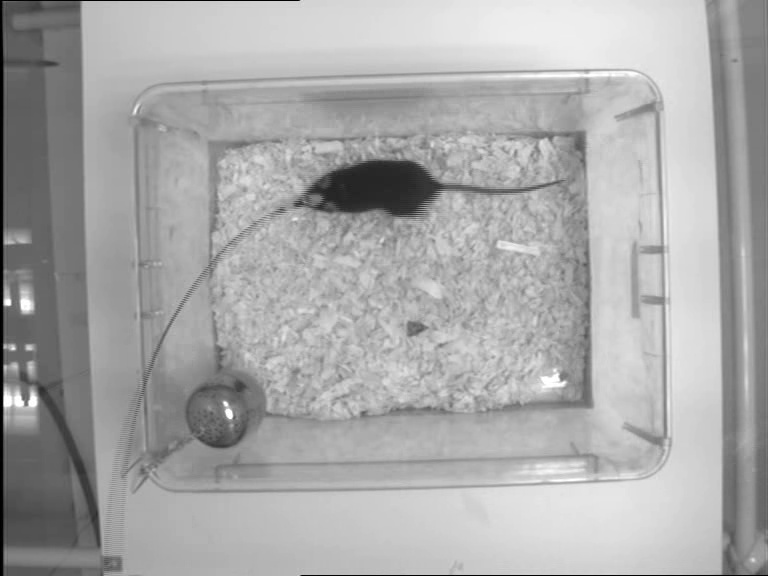mice: (297, 155, 567, 217)
